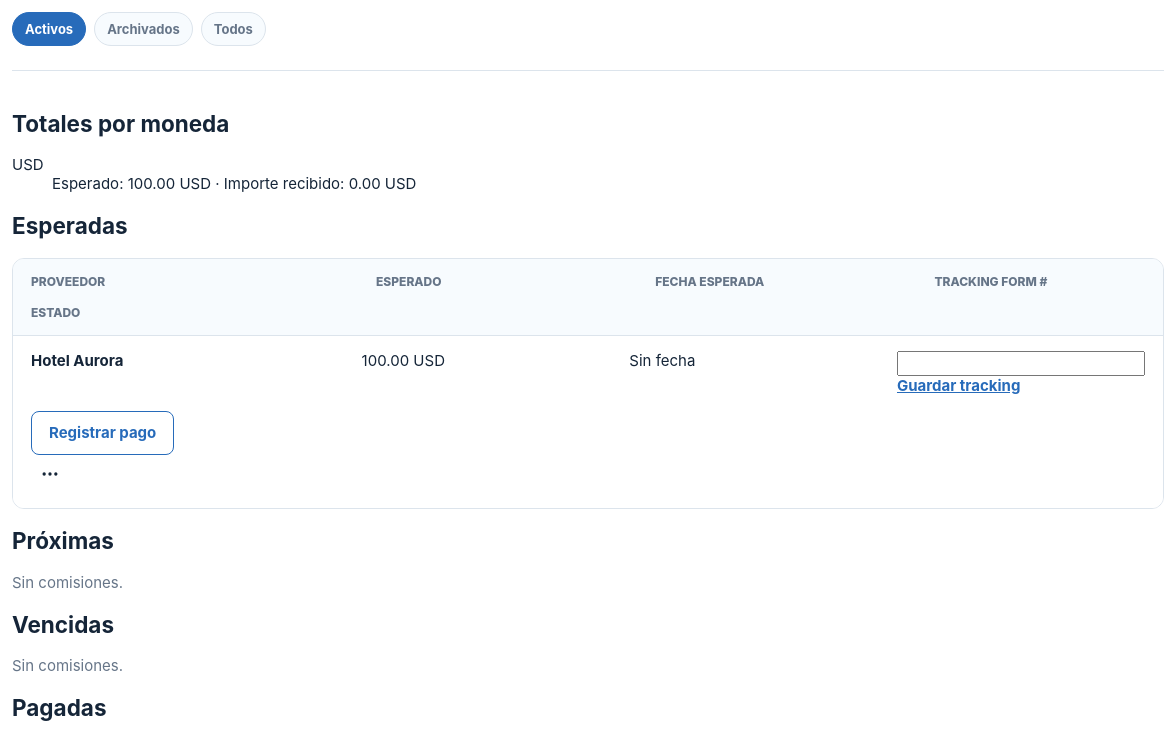
Test case: CommissionBoard › keeps archived commissions out of the active board and exposes their visible lifecycle action
Check: the number of buttons named "Acciones de la comisión Hotel Aurora" is 1, box left=31, top=455, right=69, bottom=493
What coordinates should you click on to do the following:
click the button "Archivados"
I would click on:
 (144, 29)
Its box is left=94, top=12, right=193, bottom=46.
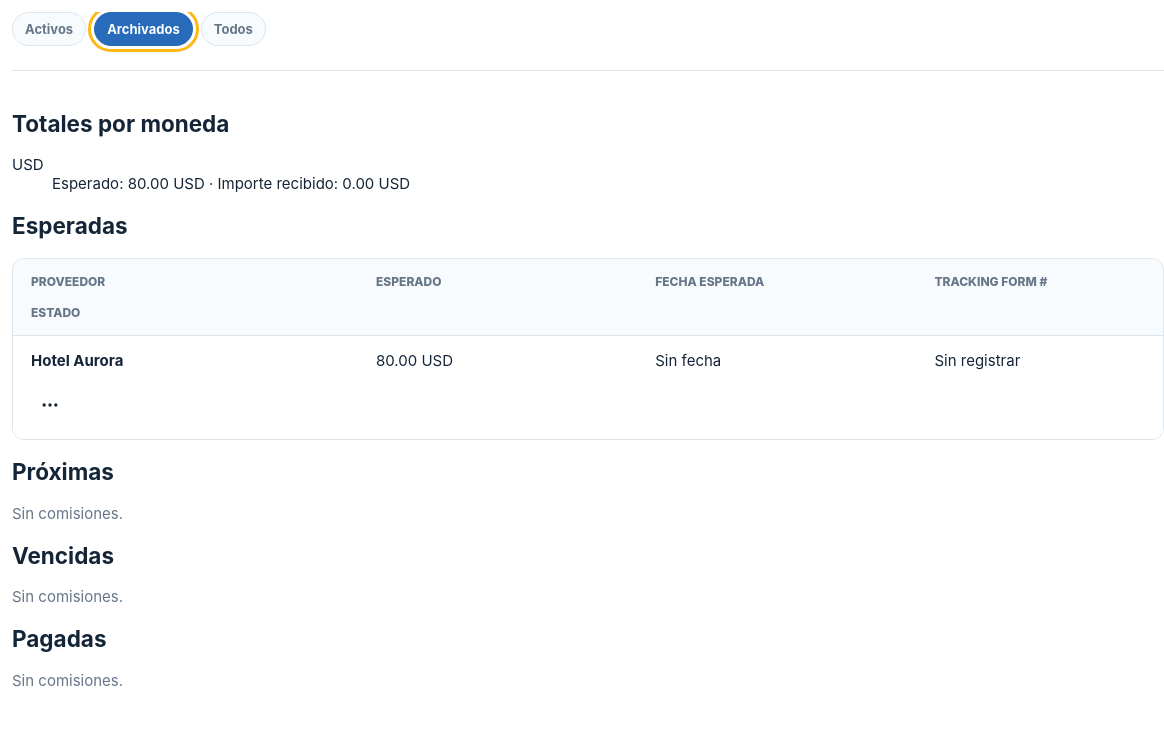
What coordinates should you click on to do the following:
click the button named "Acciones de la comisión Hotel Aurora"
I would click on:
 (50, 405)
Its box is left=31, top=386, right=69, bottom=424.
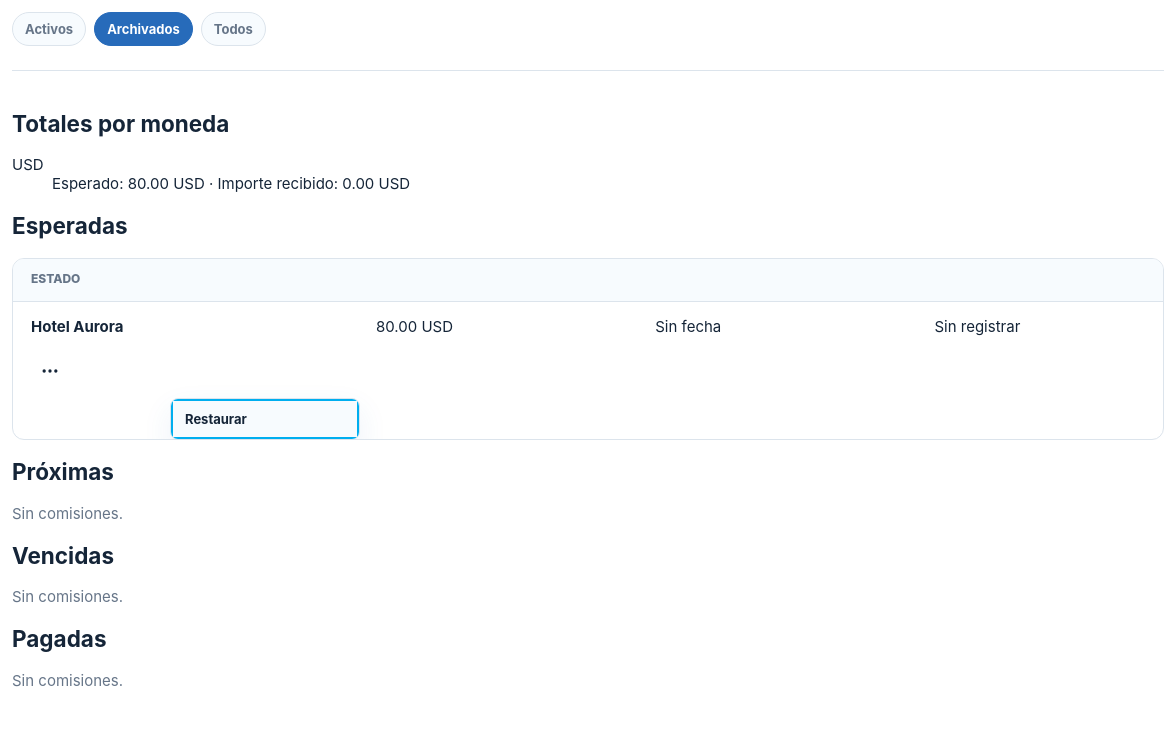
Check: the menu item "Restaurar" is shown, box left=171, top=399, right=359, bottom=439
